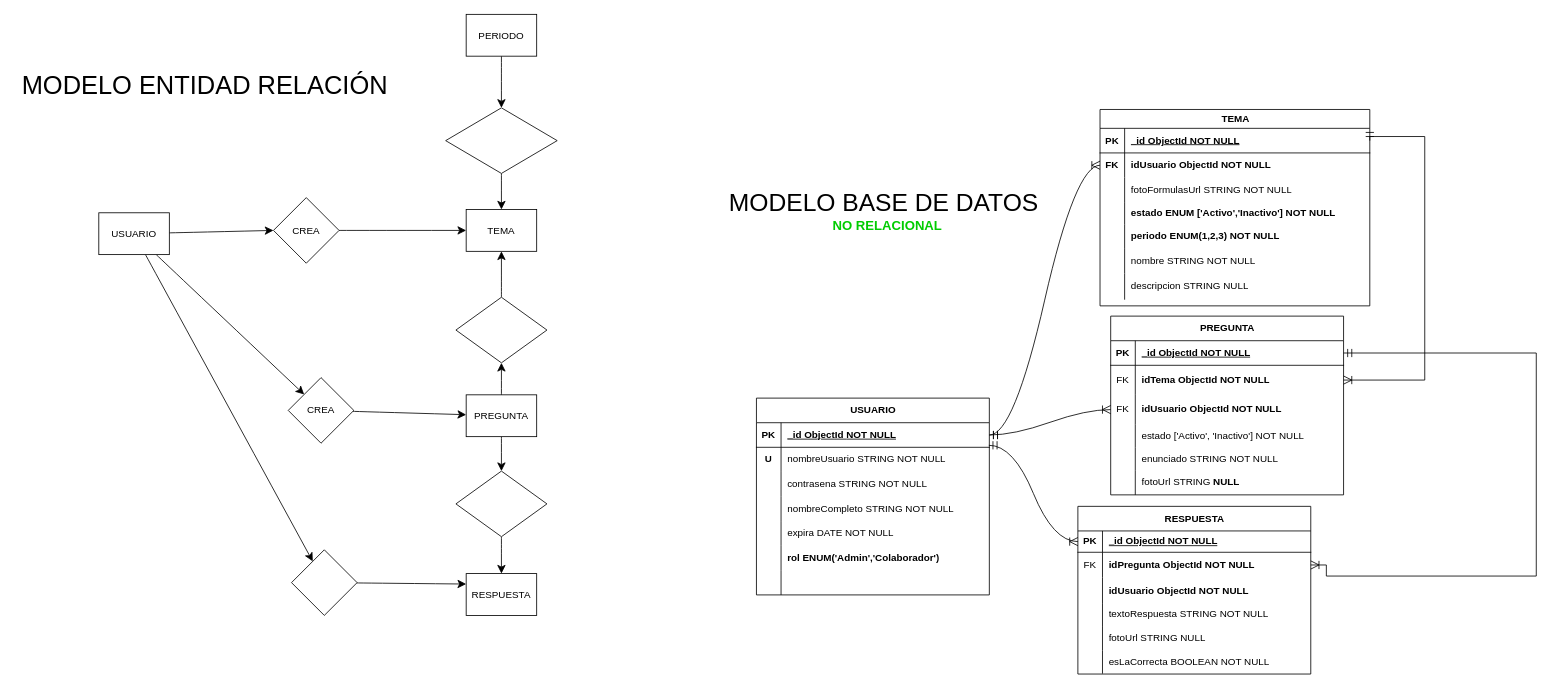
The diagram is 1560 pixels wide and 689 high, and some of its shapes have lost their labels. Each missing label, with the centre of its shape:
PERTENECE: (501,329)
SE VEN: (501,140)
SUBE: (324,582)
TIENE: (501,503)
